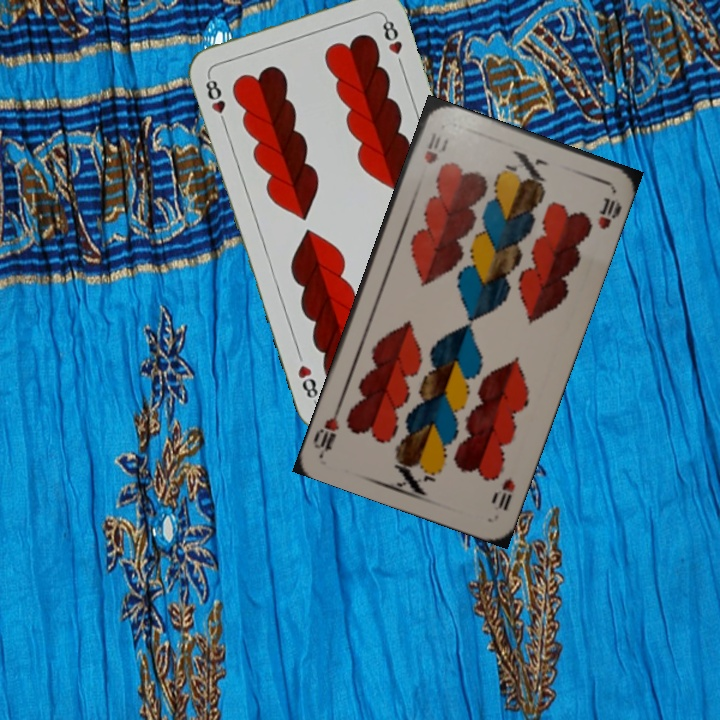H10: (487, 474, 518, 514), (419, 128, 444, 167)
H8: (201, 71, 229, 129)
